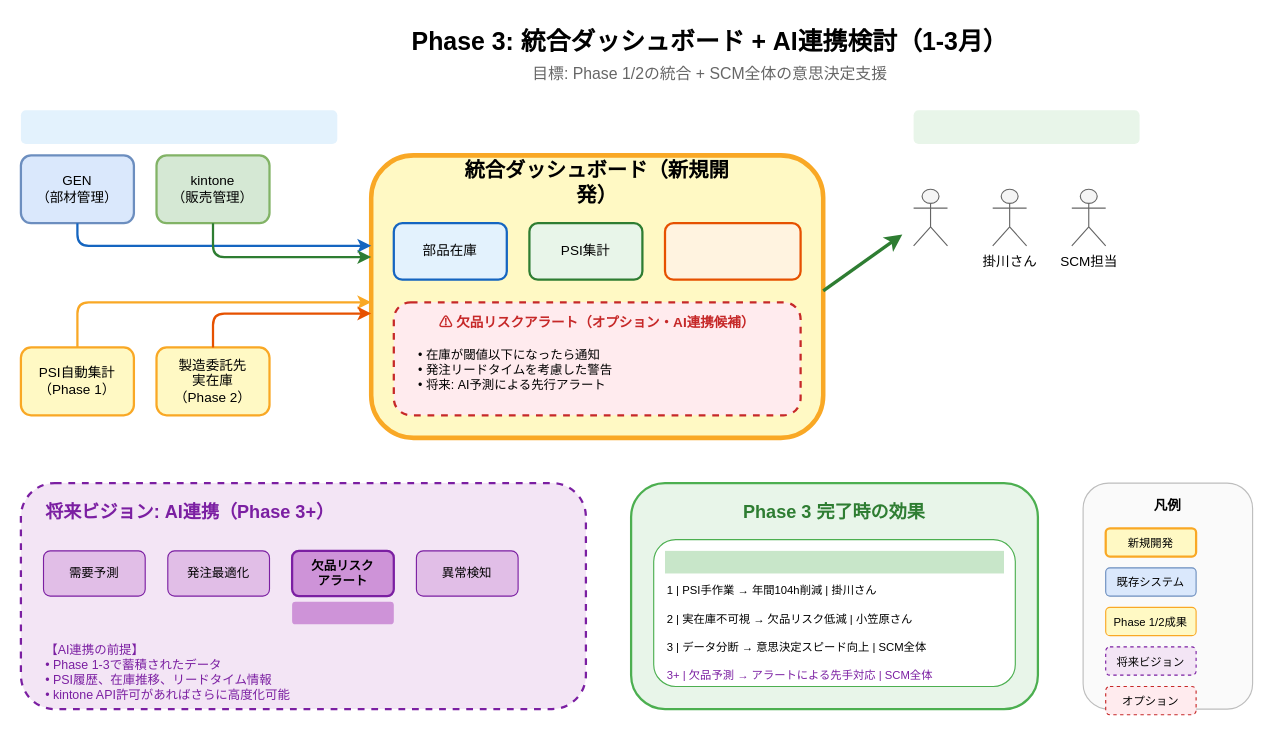
Image size: 1272x735. Some labels were removed from this diagram. The shapes that lost their labels are listed below. From the top down, each one's box as (x1, y1, x2, y2) in pixels, then its label:
(20, 110, 337, 144): データソース（Phase 1/2で構築済み）
(913, 110, 1139, 144): ユーザー（SCM関係者）
(912, 188, 948, 246): 小笠原さん
(663, 221, 801, 280): 製造委託先在庫
(664, 550, 1003, 573): Phase | 解決する課題 | 受益者
(292, 601, 393, 624): FY26着手候補
